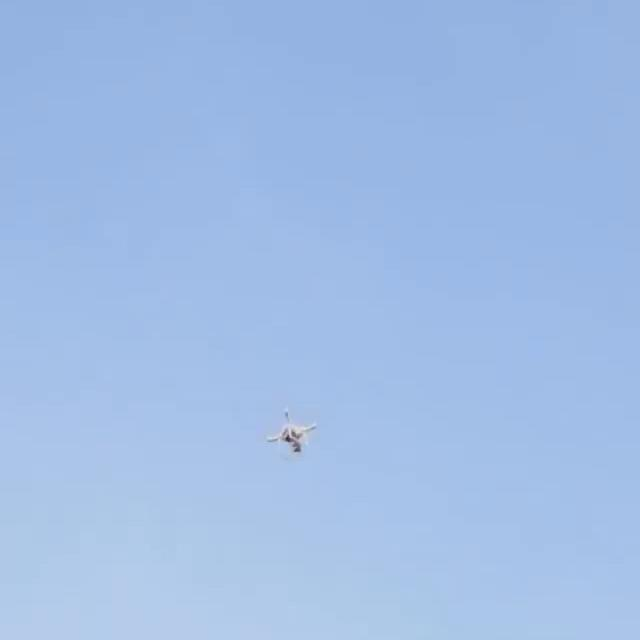drone: (266, 405, 324, 458)
